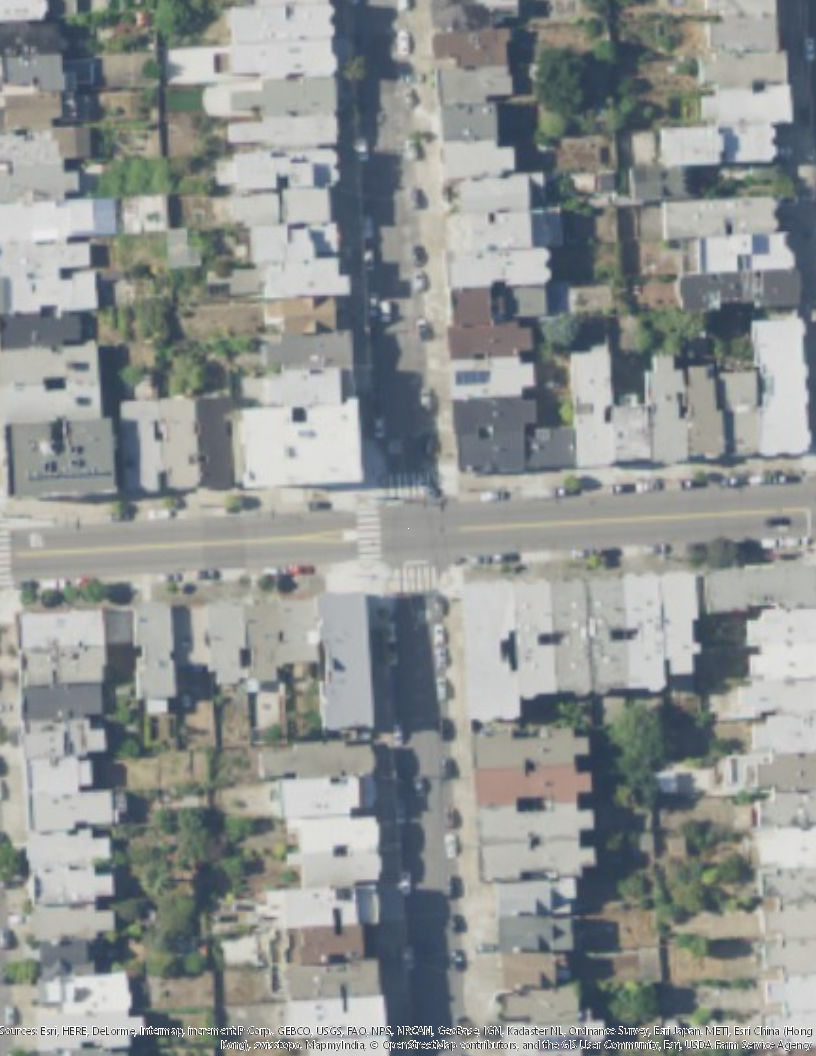zebracross: (356, 501, 383, 566), (382, 474, 434, 503), (393, 568, 442, 595)
